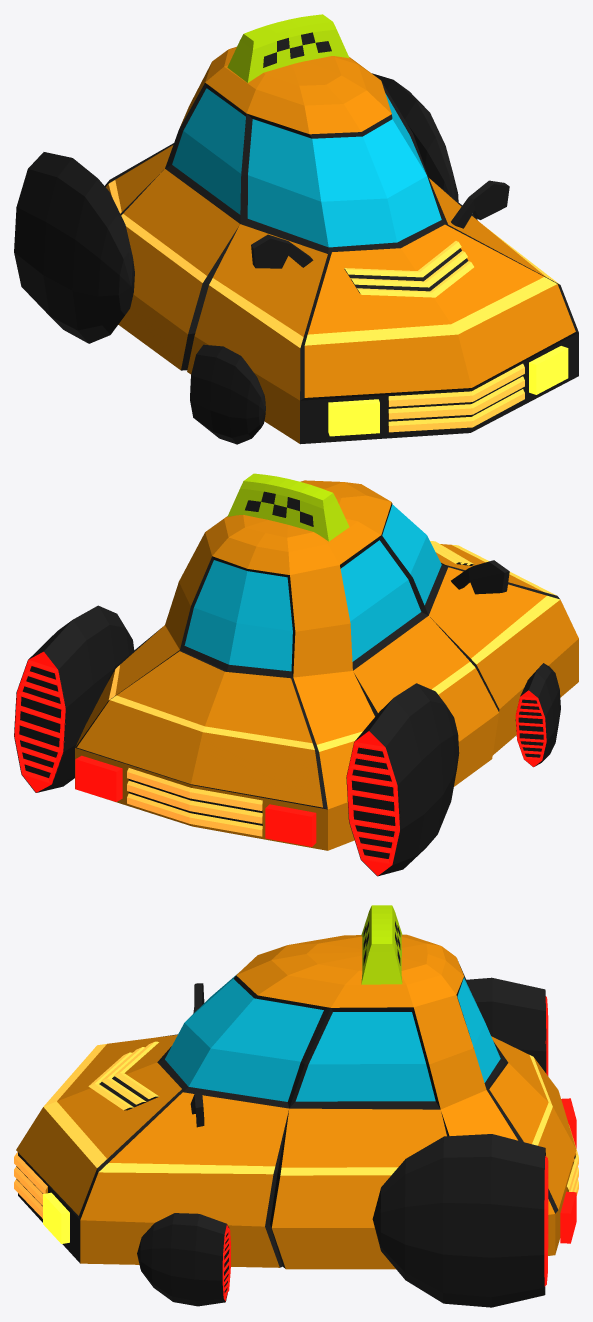
Rendered from TAKSI.fbx.
The picture shows the model from 3 angles, top to bottom: view 1: azimuth 30°, elevation 25°; view 2: azimuth 150°, elevation 25°; view 3: azimuth 270°, elevation 25°; orthographic projection.
Parts seen in each view (by area): view 1: Куб; view 2: Куб; view 3: Куб.
Part boxes in pixels (bbox=[...]): Куб: bbox=[14, 14, 578, 444]; Куб: bbox=[14, 473, 578, 876]; Куб: bbox=[14, 905, 578, 1307].
Size of the model in its own units: 146 by 111 by 186.
